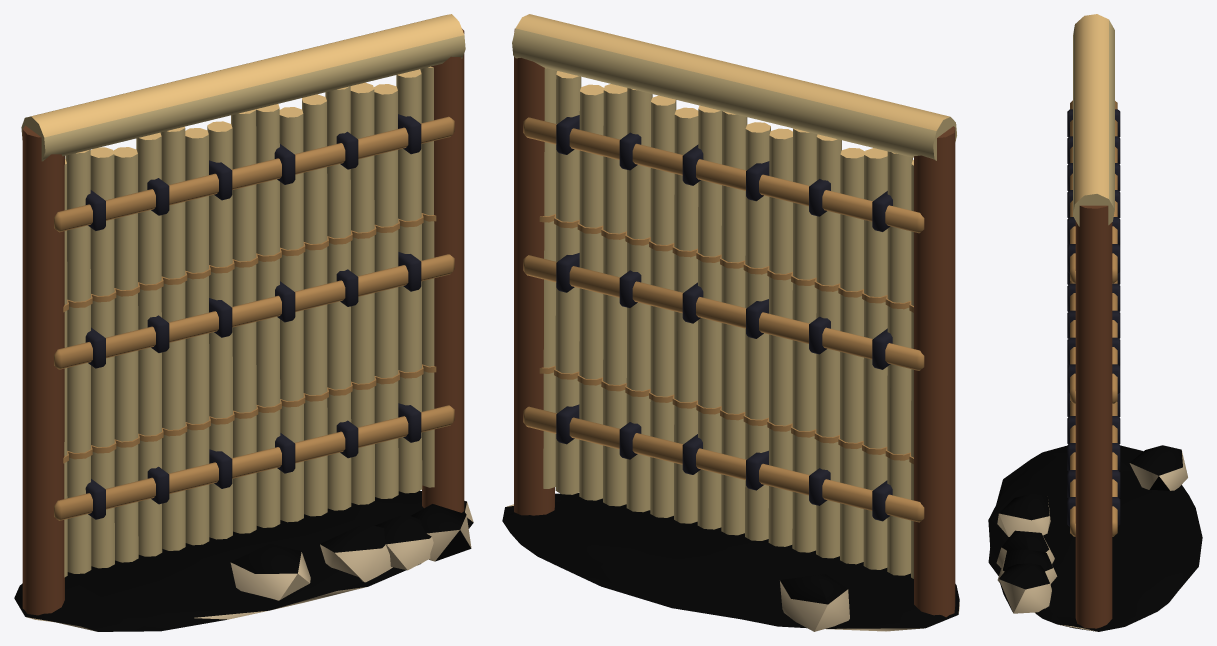
Rendered from BambooFenceWall.fbx.
3 renders of one model, left to right at view 1: azimuth 30°, elevation 25°; view 2: azimuth 150°, elevation 25°; view 3: azimuth 270°, elevation 25°, orthographic. The views are drawn at different scales.
Visible parts, largest first — view 1: BambooFenceWall; view 2: BambooFenceWall; view 3: BambooFenceWall.
Part boxes in pixels (<box>): BambooFenceWall: <box>14,14,473,631</box>; BambooFenceWall: <box>502,14,959,631</box>; BambooFenceWall: <box>988,14,1202,631</box>.
Bounding box in the file's own units: 1.7 × 1.8 × 0.8061.
Materials: 1 (1 with a texture image).
